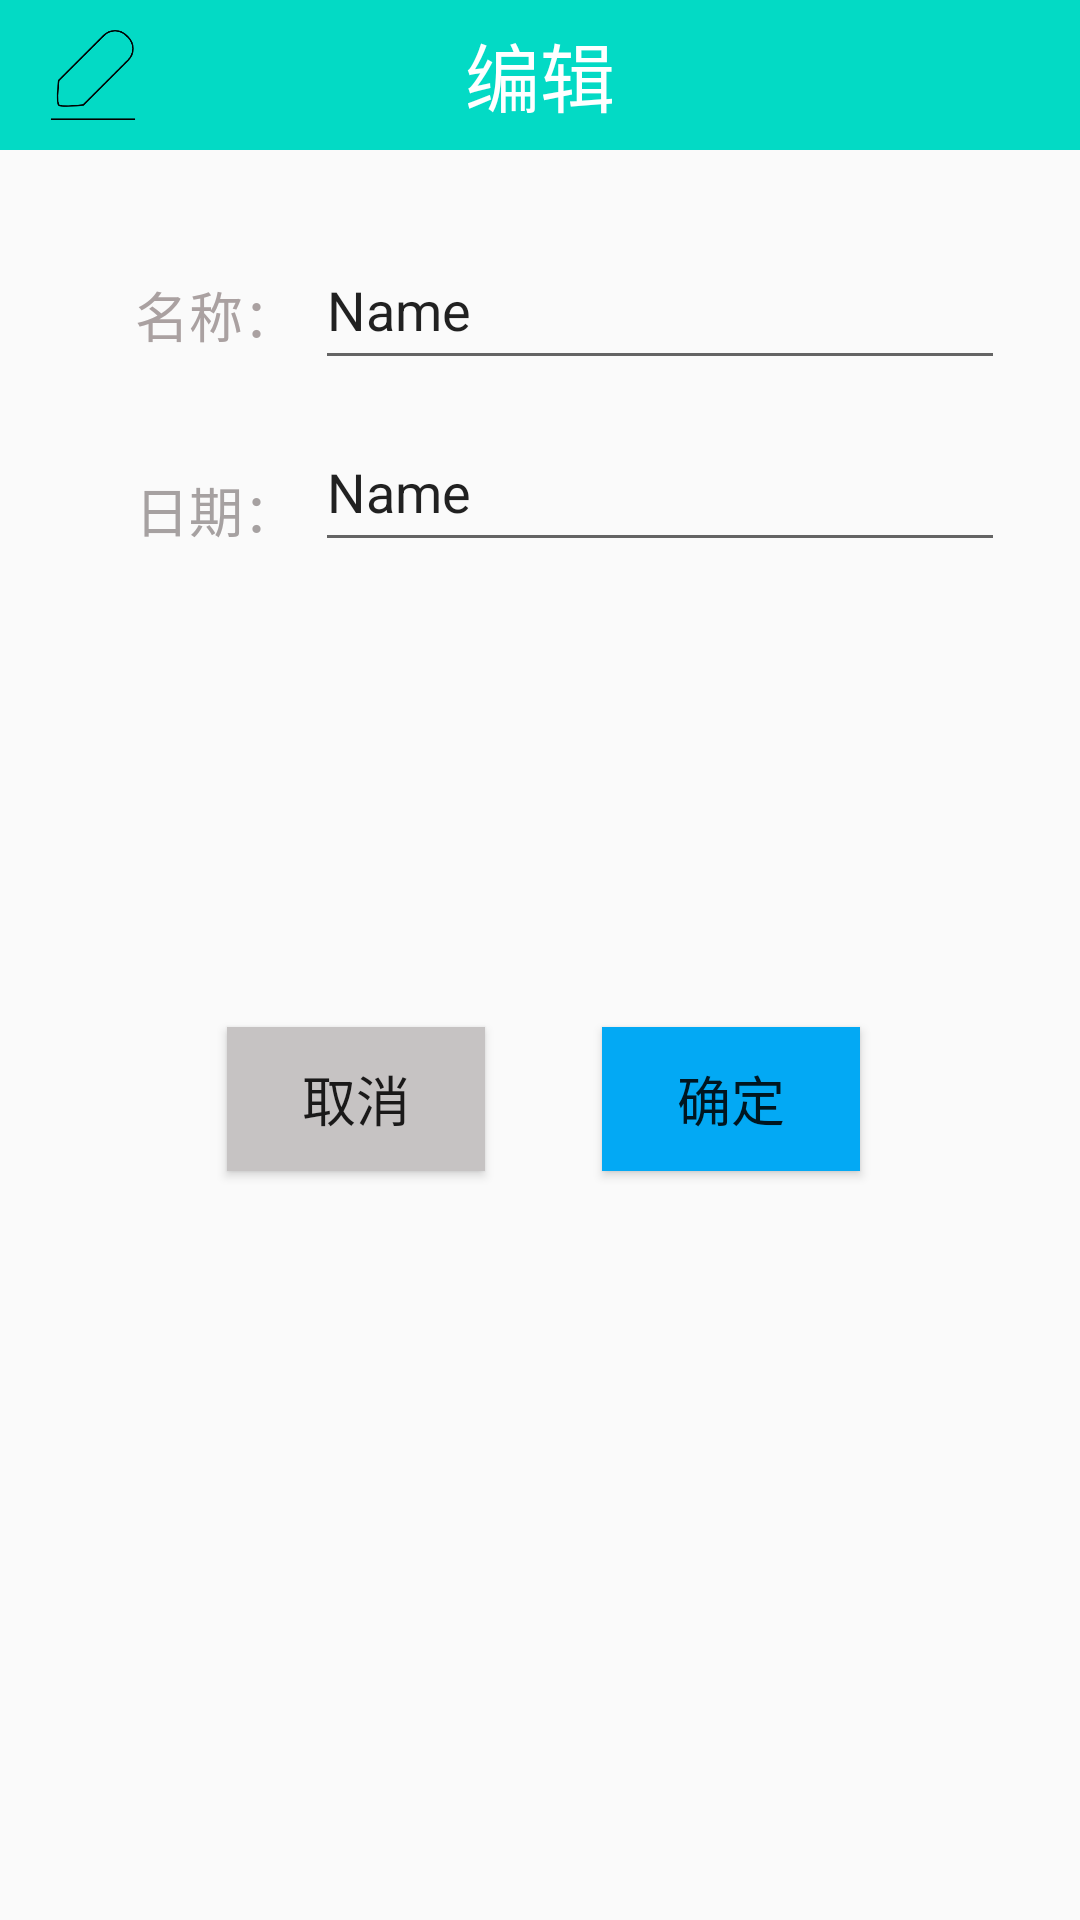

Where to tap for icons on this 1080px x 1920px app screen, as (x=x, y=y):
iconedit: (x=93, y=75)
